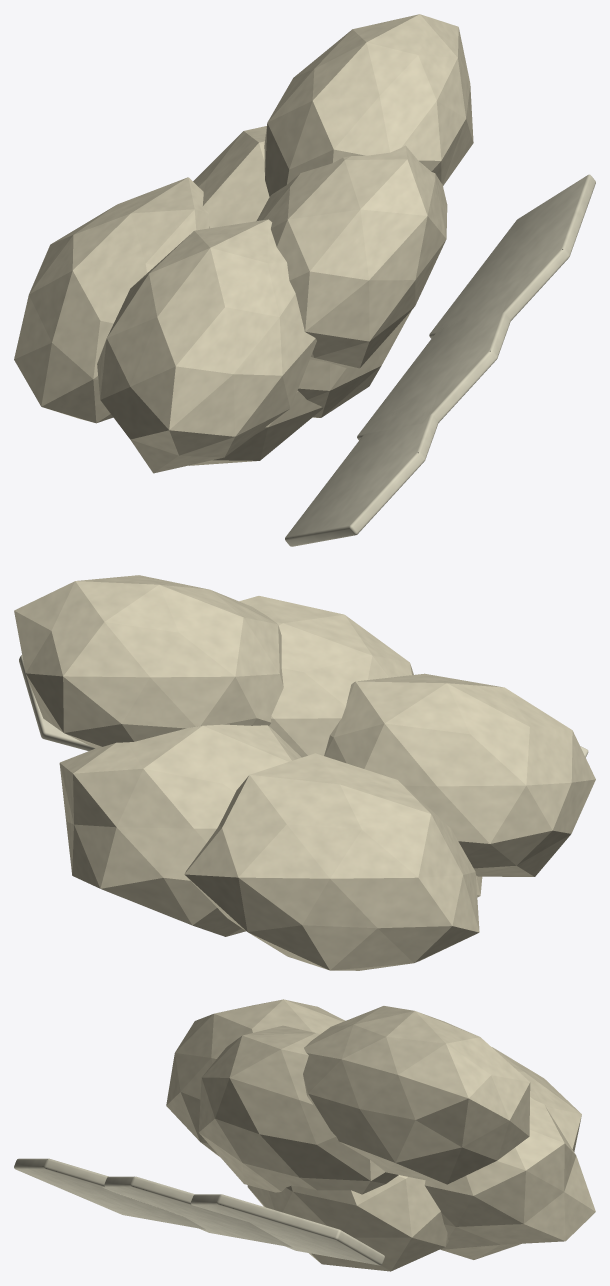
The picture shows the model from 3 angles, top to bottom: view 1: azimuth 30°, elevation 25°; view 2: azimuth 150°, elevation 25°; view 3: azimuth 270°, elevation 25°; orthographic projection. The views are drawn at different scales.
Parts seen in each view (by area): view 1: Crumpled rejected paper; view 2: Crumpled rejected paper; view 3: Crumpled rejected paper.
Part boxes in pixels (box(x1,y1,x2,y2)): Crumpled rejected paper: box(14, 14, 595, 546); Crumpled rejected paper: box(14, 575, 595, 970); Crumpled rejected paper: box(14, 999, 595, 1271).
Size of the model in its own units: 0.8833 by 0.5473 by 0.9154.
Materials: 1 (1 with a texture image).
